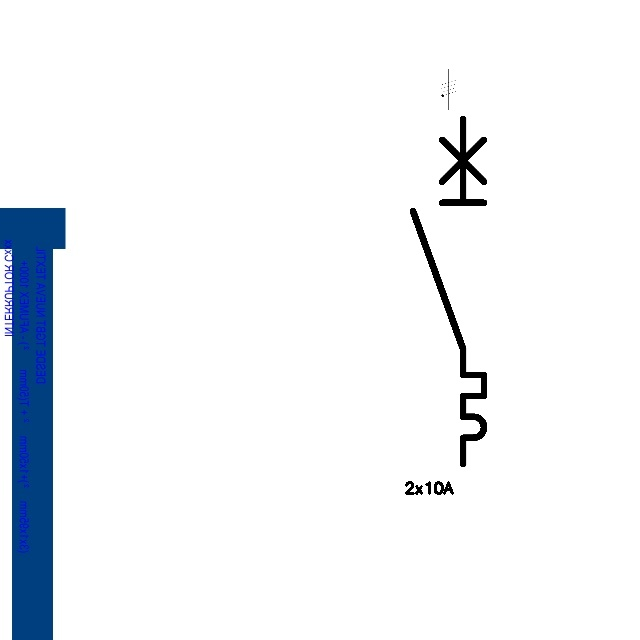interruptor_termomagnetico: (404, 110, 493, 473)
